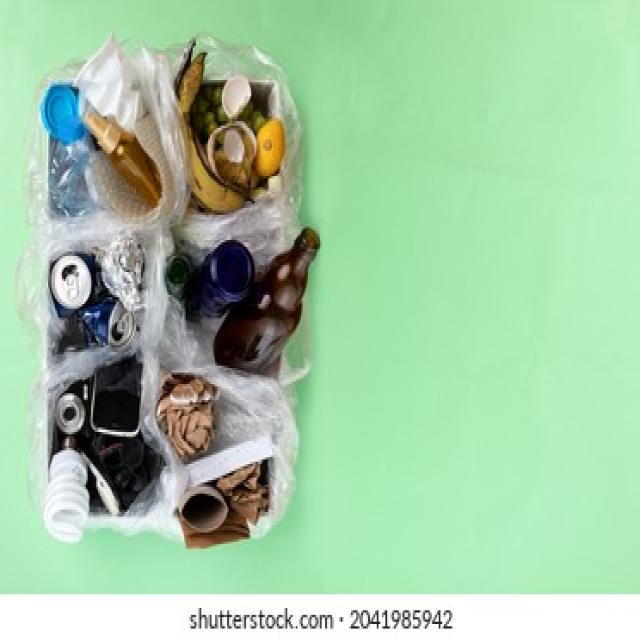cardboard: (164, 382, 268, 551)
glass: (177, 256, 320, 366)
metal: (38, 375, 144, 523), (53, 258, 153, 345)
plastic: (43, 91, 79, 151)
trash: (165, 71, 277, 215)
